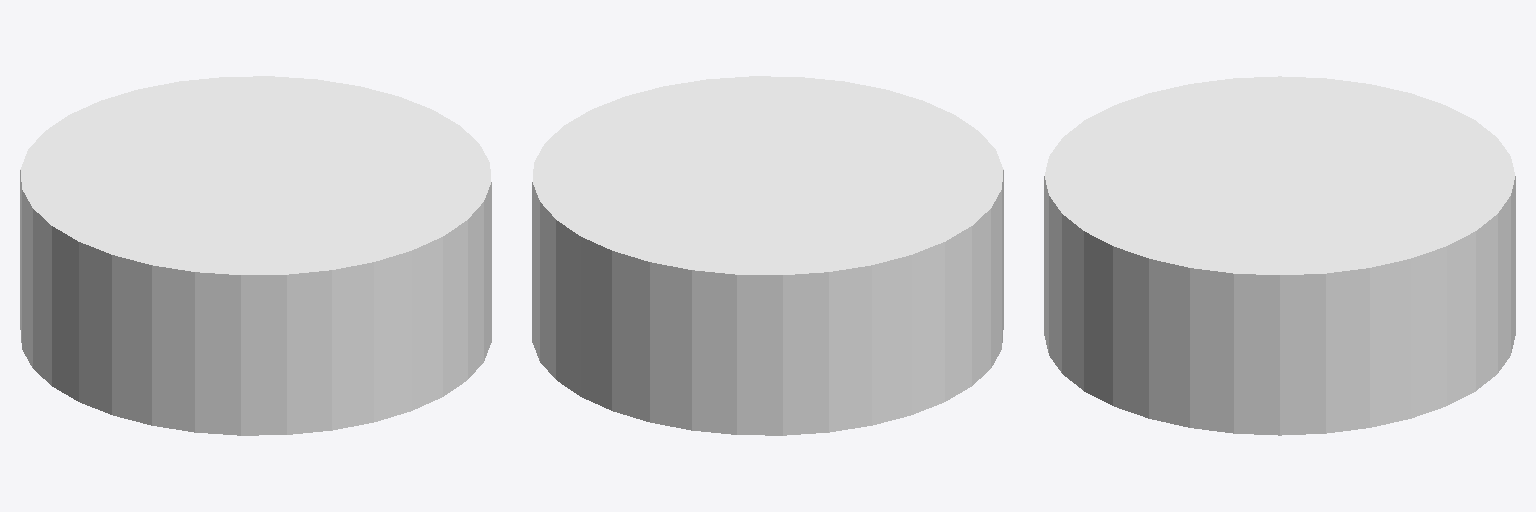
robot.urdf — panda:
<?xml version="1.0" ?>
<!-- =================================================================================== -->
<!-- |    This document was autogenerated by xacro from /opt/ros/kinetic/share/moveit_resources/panda_description/urdf/panda.urdf | -->
<!-- |    EDITING THIS FILE BY HAND IS NOT RECOMMENDED                                 | -->
<!-- =================================================================================== -->
<robot name="panda" xmlns:xacro="http://www.ros.org/wiki/xacro">
    <link name="panda_link0">
        <visual>
            <geometry>
                <mesh filename="package://meshes/visual/link0.dae" />
            </geometry>
            <material name="panda_white">
    		    <color rgba="1. 1. 1. 1."/>
  		    </material>
        </visual>
        <collision>
            <geometry>
                <mesh filename="package://meshes/collision/link0.stl" />
            </geometry>
        </collision>
    </link>
    <link name="panda_link1">
        <visual>
            <geometry>
                <mesh filename="package://meshes/visual/link1.dae" />
            </geometry>
            <material name="panda_white"/>
        </visual>
        <collision>
            <geometry>
                <mesh filename="package://meshes/collision/link1.stl" />
            </geometry>
        </collision>
    </link>
    <joint name="panda_joint1" type="revolute">
        <safety_controller k_position="100.0" k_velocity="40.0" soft_lower_limit="-2.8973" soft_upper_limit="2.8973" />
        <origin rpy="0 0 0" xyz="0 0 0.333" />
        <parent link="panda_link0" />
        <child link="panda_link1" />
        <axis xyz="0 0 1" />
        <limit effort="87" lower="-2.9671" upper="2.9671" velocity="2.3925" />
    </joint>
    <link name="panda_link2">
        <visual>
            <geometry>
                <mesh filename="package://meshes/visual/link2.dae" />
            </geometry>
            <material name="panda_white"/>
        </visual>
        <collision>
            <geometry>
                <mesh filename="package://meshes/collision/link2.stl" />
            </geometry>
        </collision>
    </link>
    <joint name="panda_joint2" type="revolute">
        <safety_controller k_position="100.0" k_velocity="40.0" soft_lower_limit="-1.7628" soft_upper_limit="1.7628" />
        <origin rpy="-1.57079632679 0 0" xyz="0 0 0" />
        <parent link="panda_link1" />
        <child link="panda_link2" />
        <axis xyz="0 0 1" />
        <limit effort="87" lower="-1.8326" upper="1.8326" velocity="2.3925" />
    </joint>
    <link name="panda_link3">
        <visual>
            <geometry>
                <mesh filename="package://meshes/visual/link3.dae" />
            </geometry>
            <material name="panda_white"/>
        </visual>
        <collision>
            <geometry>
                <mesh filename="package://meshes/collision/link3.stl" />
            </geometry>
        </collision>
    </link>
    <joint name="panda_joint3" type="revolute">
        <safety_controller k_position="100.0" k_velocity="40.0" soft_lower_limit="-2.8973" soft_upper_limit="2.8973" />
        <origin rpy="1.57079632679 0 0" xyz="0 -0.316 0" />
        <parent link="panda_link2" />
        <child link="panda_link3" />
        <axis xyz="0 0 1" />
        <limit effort="87" lower="-2.9671" upper="2.9671" velocity="2.3925" />
    </joint>
    <link name="panda_link4">
        <visual>
            <geometry>
                <mesh filename="package://meshes/visual/link4.dae" />
            </geometry>
            <material name="panda_white"/>
        </visual>
        <collision>
            <geometry>
                <mesh filename="package://meshes/collision/link4.stl" />
            </geometry>
        </collision>
    </link>
    <joint name="panda_joint4" type="revolute">
        <safety_controller k_position="100.0" k_velocity="40.0" soft_lower_limit="-3.0718" soft_upper_limit="0.0175" />
        <origin rpy="1.57079632679 0 0" xyz="0.0825 0 0" />
        <parent link="panda_link3" />
        <child link="panda_link4" />
        <axis xyz="0 0 1" />
        <limit effort="87" lower="-3.1416" upper="0.0873" velocity="2.3925" />
    </joint>
    <link name="panda_link5">
        <visual>
            <geometry>
                <mesh filename="package://meshes/visual/link5.dae" />
            </geometry>
            <material name="panda_white"/>
        </visual>
        <collision>
            <geometry>
                <mesh filename="package://meshes/collision/link5.stl" />
            </geometry>
        </collision>
    </link>
    <joint name="panda_joint5" type="revolute">
        <safety_controller k_position="100.0" k_velocity="40.0" soft_lower_limit="-2.8973" soft_upper_limit="2.8973" />
        <origin rpy="-1.57079632679 0 0" xyz="-0.0825 0.384 0" />
        <parent link="panda_link4" />
        <child link="panda_link5" />
        <axis xyz="0 0 1" />
        <limit effort="12" lower="-2.9671" upper="2.9671" velocity="2.8710" />
    </joint>
    <link name="panda_link6">
        <visual>
            <geometry>
                <mesh filename="package://meshes/visual/link6.dae" />
            </geometry>
            <material name="panda_white"/>
        </visual>
        <collision>
            <geometry>
                <mesh filename="package://meshes/collision/link6.stl" />
            </geometry>
        </collision>
    </link>
    <joint name="panda_joint6" type="revolute">
        <safety_controller k_position="100.0" k_velocity="40.0" soft_lower_limit="-0.0175" soft_upper_limit="3.7525" />
        <origin rpy="1.57079632679 0 0" xyz="0 0 0" />
        <parent link="panda_link5" />
        <child link="panda_link6" />
        <axis xyz="0 0 1" />
        <limit effort="12" lower="-0.0873" upper="3.8223" velocity="2.8710" />
    </joint>
    <link name="panda_link7">
        <visual>
            <geometry>
                <mesh filename="package://meshes/visual/link7.dae" />
            </geometry>
            <material name="panda_white"/>
        </visual>
        <collision>
            <geometry>
                <mesh filename="package://meshes/collision/link7.stl" />
            </geometry>
        </collision>
    </link>
    <joint name="panda_joint7" type="revolute">
        <safety_controller k_position="100.0" k_velocity="40.0" soft_lower_limit="-2.8973" soft_upper_limit="2.8973" />
        <origin rpy="1.57079632679 0 0" xyz="0.088 0 0" />
        <parent link="panda_link6" />
        <child link="panda_link7" />
        <axis xyz="0 0 1" />
        <limit effort="12" lower="-2.9671" upper="2.9671" velocity="2.8710" />
    </joint>
    <joint name="panda_spade_joint" type="fixed">
        <parent link="panda_link7" />
        <child link="panda_holder" />
        <origin rpy="0 0 0" xyz="0 0 0.1" />
    </joint>
    <link name="panda_holder">
        <visual>
            <geometry>
                <cylinder length="0.03" radius="0.04"/>
            </geometry>
            <material name="panda_white">
    		    <color rgba="1. 1. 1. 1."/>
  		    </material>
        </visual>
        <collision>
            <geometry>
                <cylinder length="0.003" radius="0.04"/>
            </geometry>
<!--            <material name="panda_white">-->
<!--    		    <color rgba="1. 1. 1. 1."/>-->
<!--  		    </material>-->
        </collision>

    </link>
</robot>

--- What the picture shows (computed from the rendered views, not written in the file) ---
Views: 3 orthographic renders of the robot side by side, from view 1: azimuth 30°, elevation 25°; view 2: azimuth 150°, elevation 25°; view 3: azimuth 270°, elevation 25°.
Robot: panda — 9 links, 8 joints (7 revolute, 1 fixed); root link panda_link0; default pose: every joint at zero.
Links seen in each view (by area): view 1: panda_holder; view 2: panda_holder; view 3: panda_holder.
Boxes of the visible links, box(x1,y1,x2,y2) form: panda_holder: box(20, 76, 491, 435); panda_holder: box(532, 76, 1003, 435); panda_holder: box(1044, 76, 1515, 435).
Size in the robot's own frame: 0.08 by 0.08 by 0.03 metres.
0 mesh visuals loaded from 8 distinct referenced files (none loaded); not drawn: 8 (reference not matched to a file when rendering).